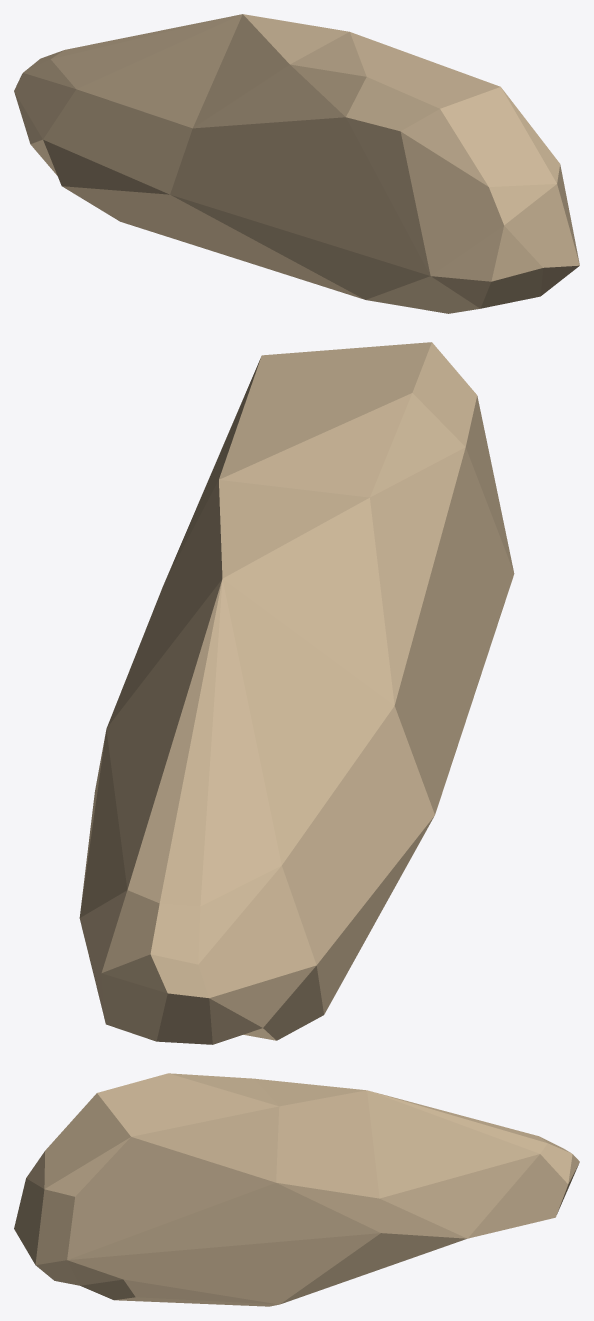
Rendered from SM_stone_debris_02.fbx.
3 renders of one model, top to bottom at view 1: azimuth 30°, elevation 25°; view 2: azimuth 150°, elevation 25°; view 3: azimuth 270°, elevation 25°, orthographic. The views are drawn at different scales.
Visible parts, largest first — view 1: stone_debris_02; view 2: stone_debris_02; view 3: stone_debris_02.
Part boxes in pixels (<box>): stone_debris_02: <box>14,14,579,313</box>; stone_debris_02: <box>79,342,514,1044</box>; stone_debris_02: <box>14,1073,579,1306</box>.
Bounding box in the file's own units: 211 × 182 × 445.
